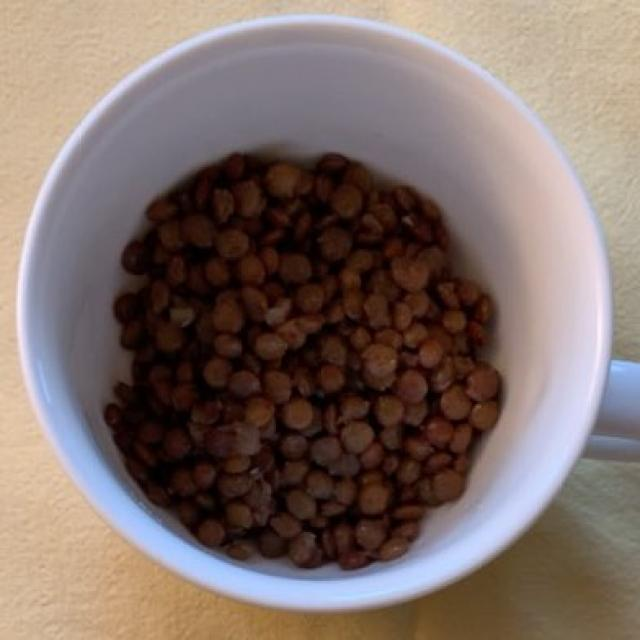lentils-green-du-puy-du-berry: (97, 159, 510, 572)
